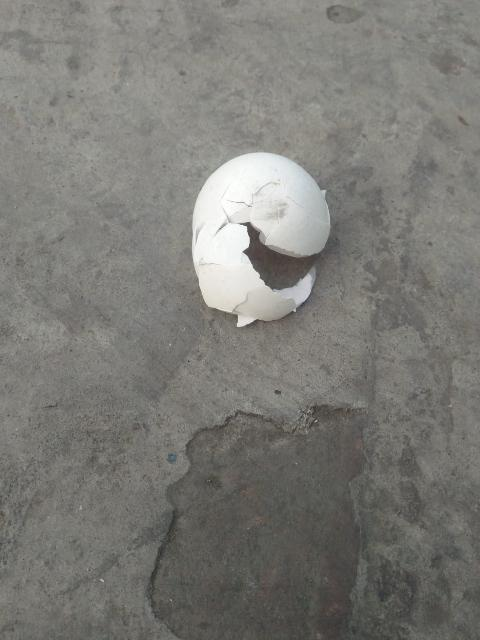Roto: (190, 150, 331, 328)
